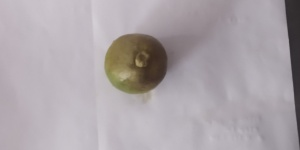BAD: (105, 36, 173, 94)
